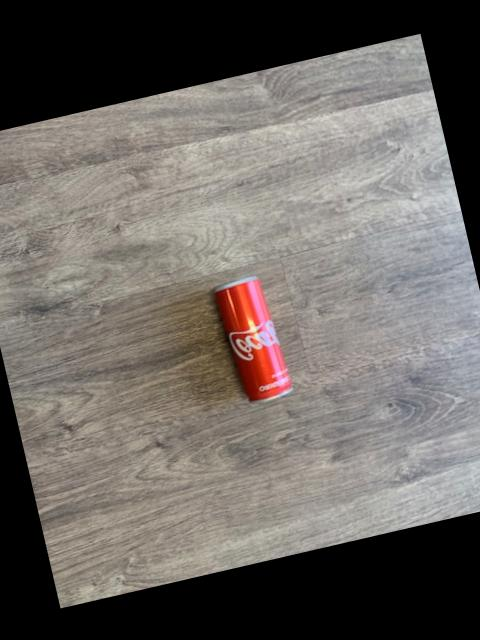metal: (213, 274, 289, 398)
